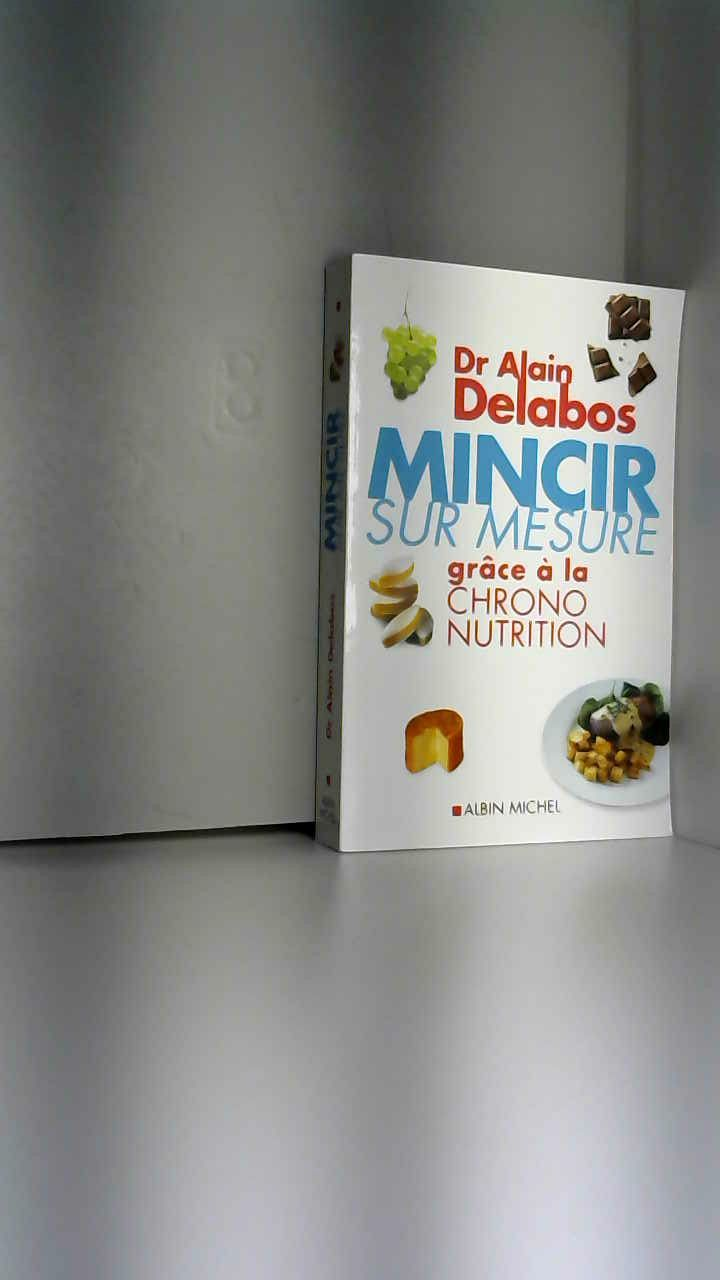book: (290, 220, 720, 902)
